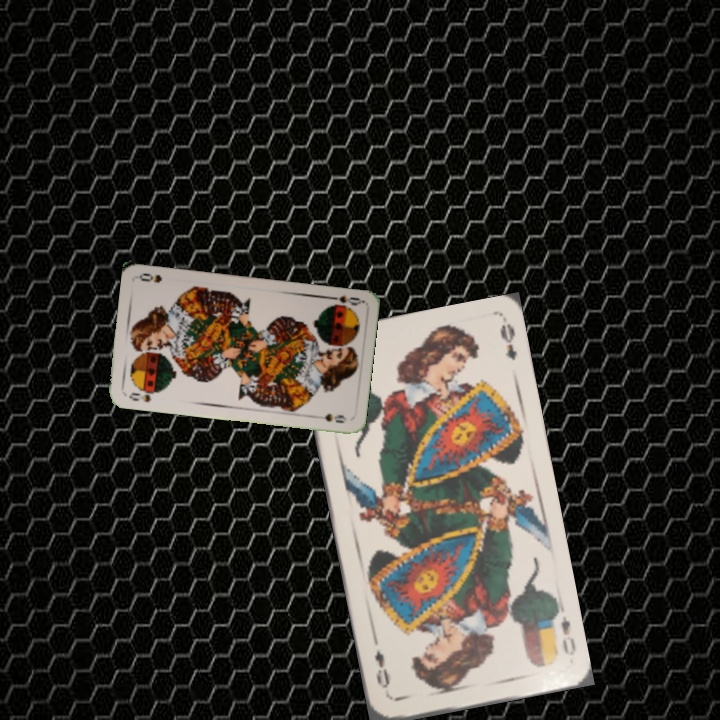EO: (557, 611, 579, 659)
SO: (125, 386, 162, 405), (323, 291, 364, 308)
